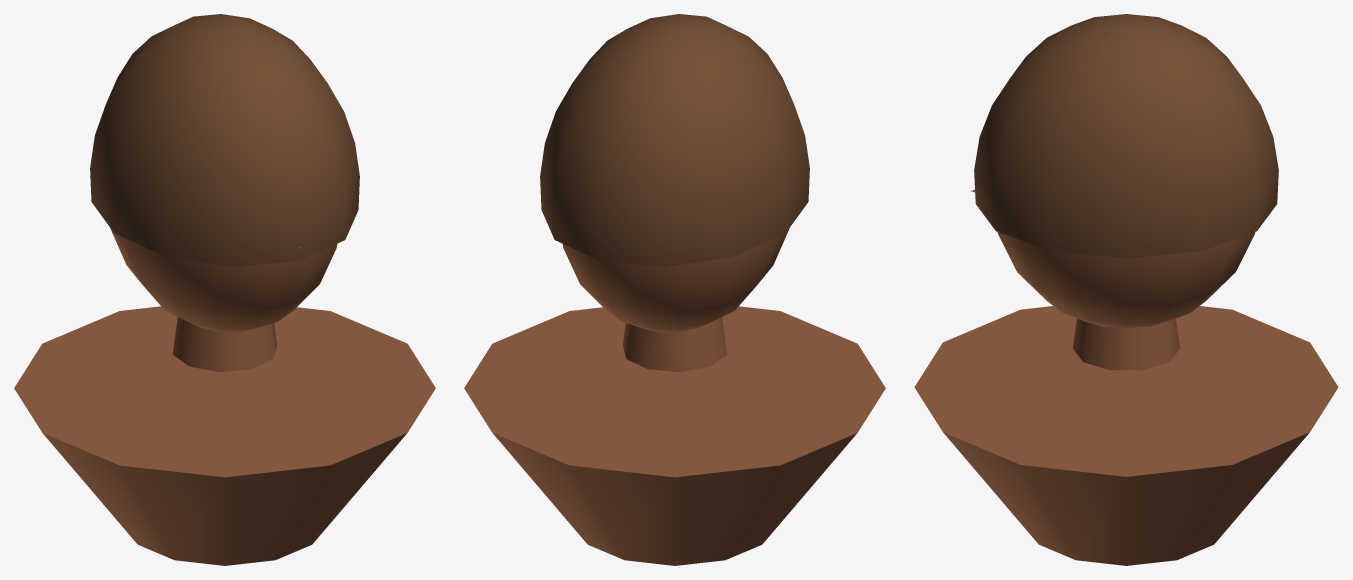
The model's file is portrait06t_003.glb.
3 views of the same model, side by side, from view 1: azimuth 30°, elevation 25°; view 2: azimuth 150°, elevation 25°; view 3: azimuth 270°, elevation 25° (orthographic).
Size of the model in its own units: 1.66 by 2.16 by 1.66.
